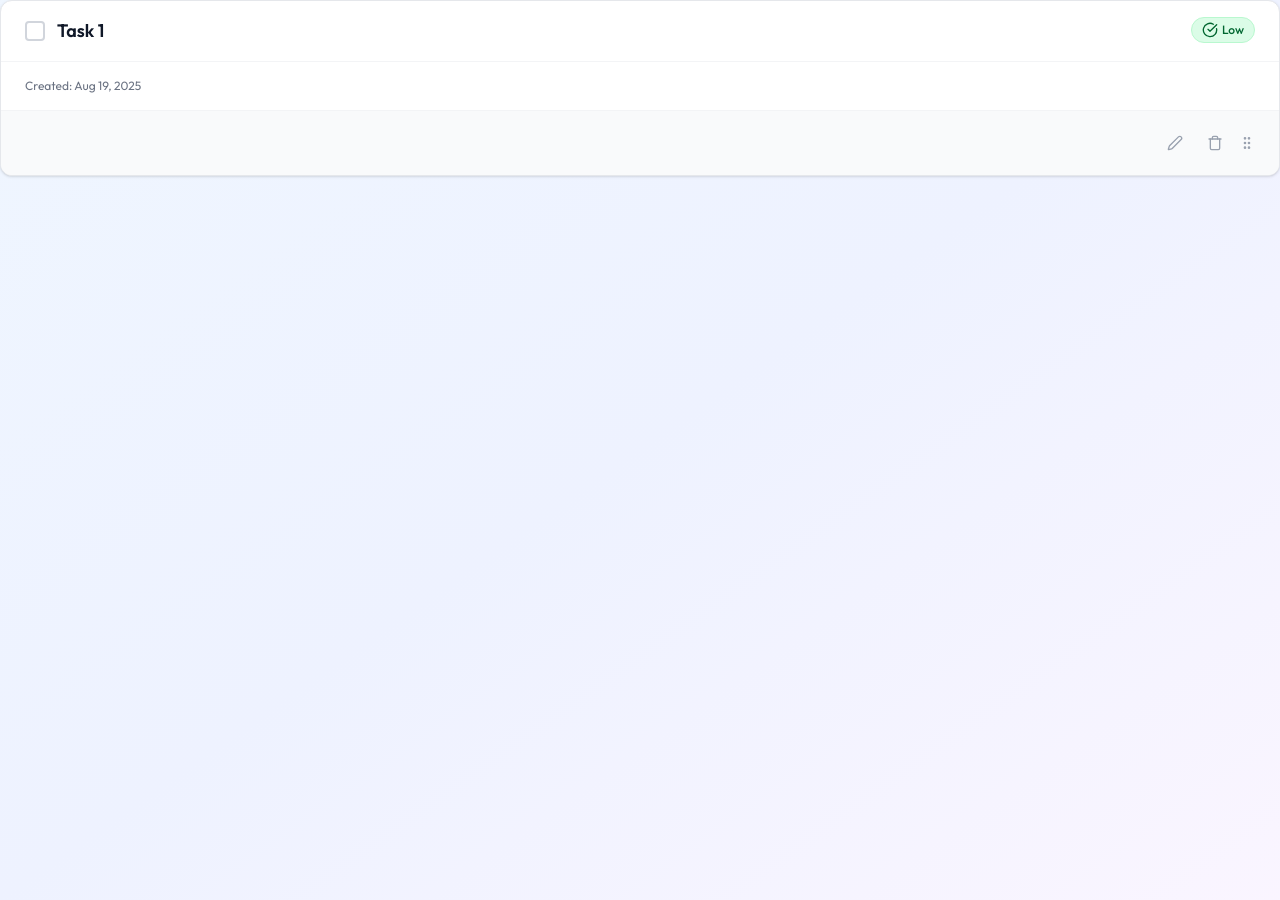
it: TaskListItem › should update and reflect the task detail changes
Click the button named "Edit task".
click(1175, 143)  # box top-left (1159, 127), bottom-right (1191, 159)
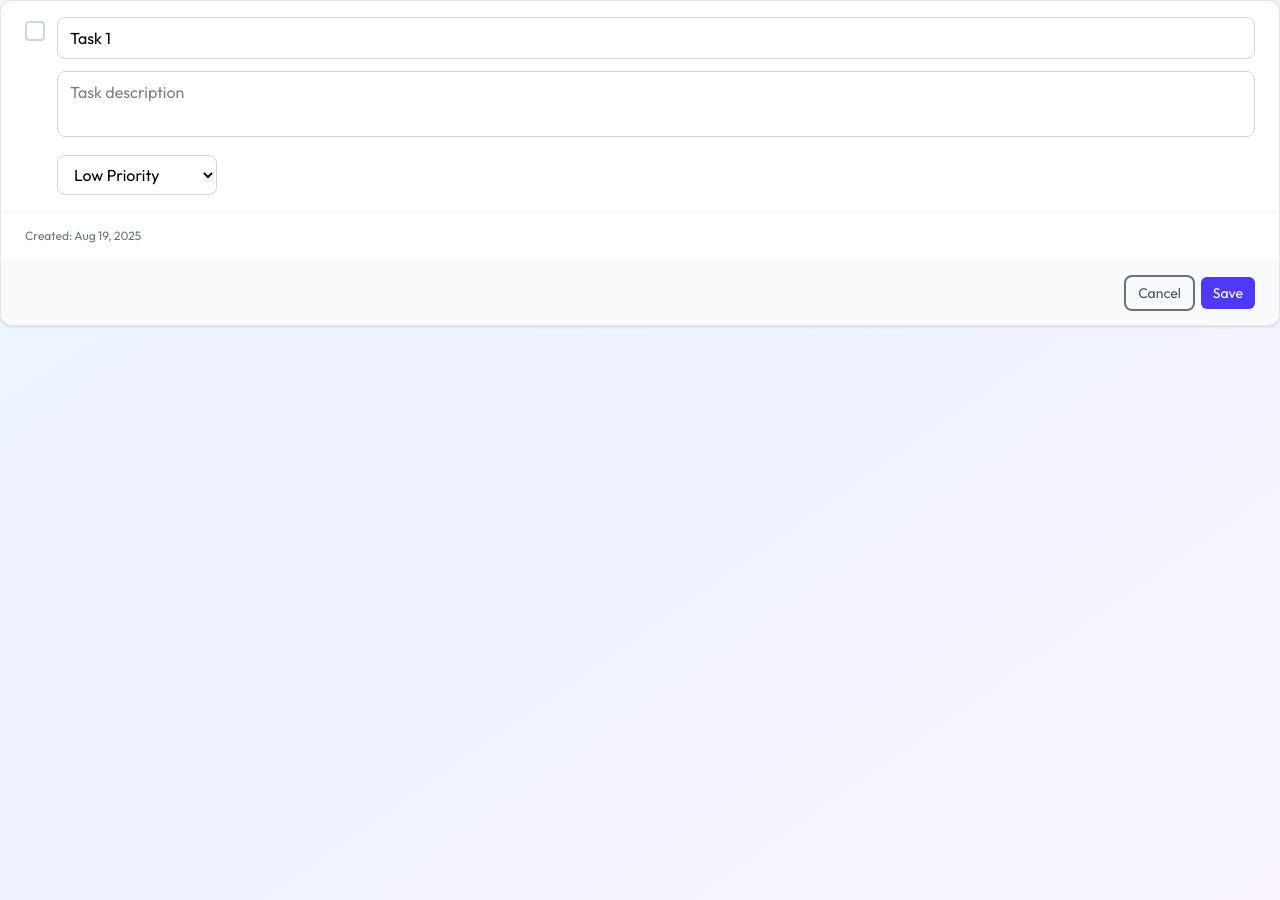
Replace the text in the field named "Edit task title" with "Updated Task Title" at (656, 38), box top-left (57, 17), bottom-right (1255, 59)
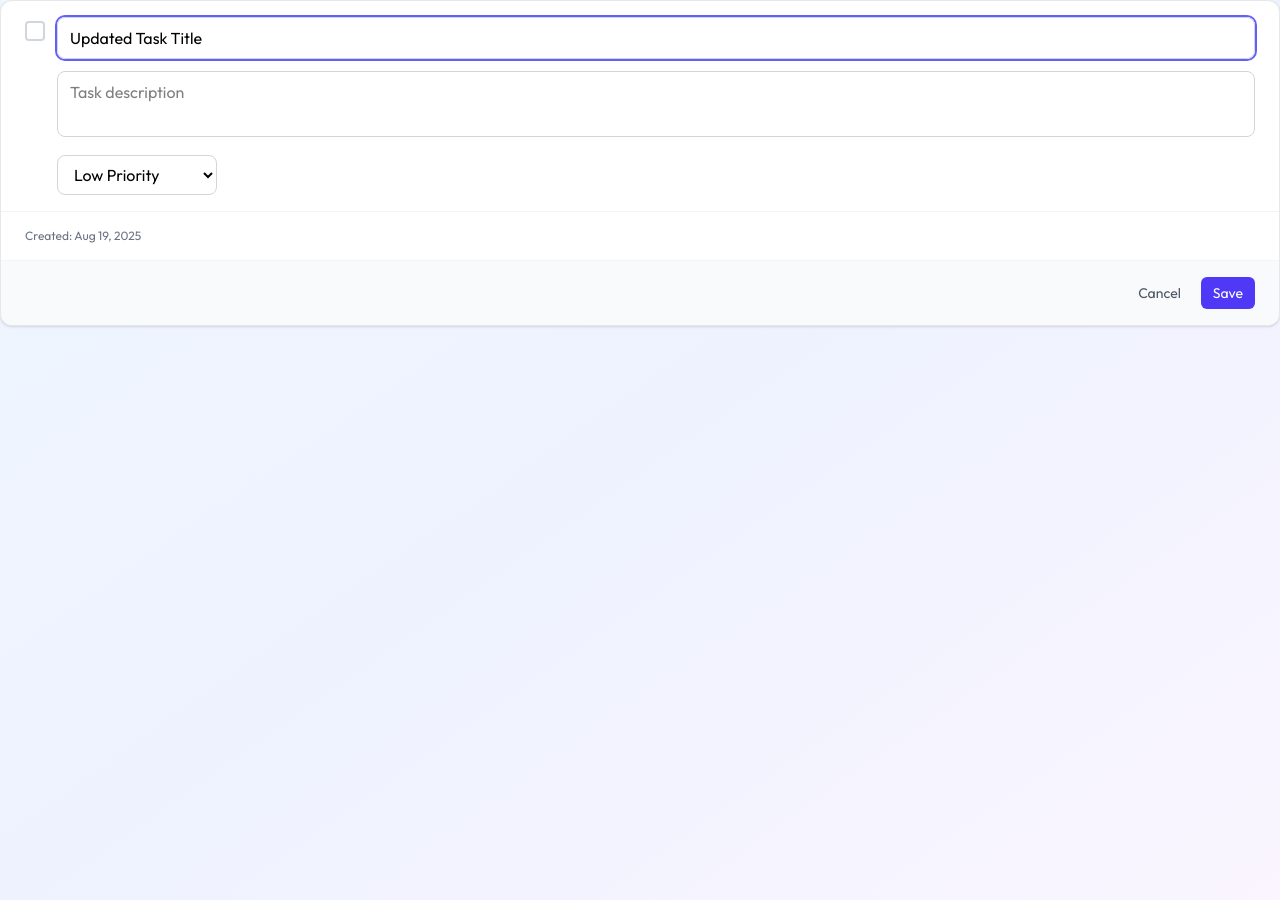
Select "Low Priority" in the dropdown named "Edit task priority" at (137, 175), box top-left (57, 155), bottom-right (217, 195)
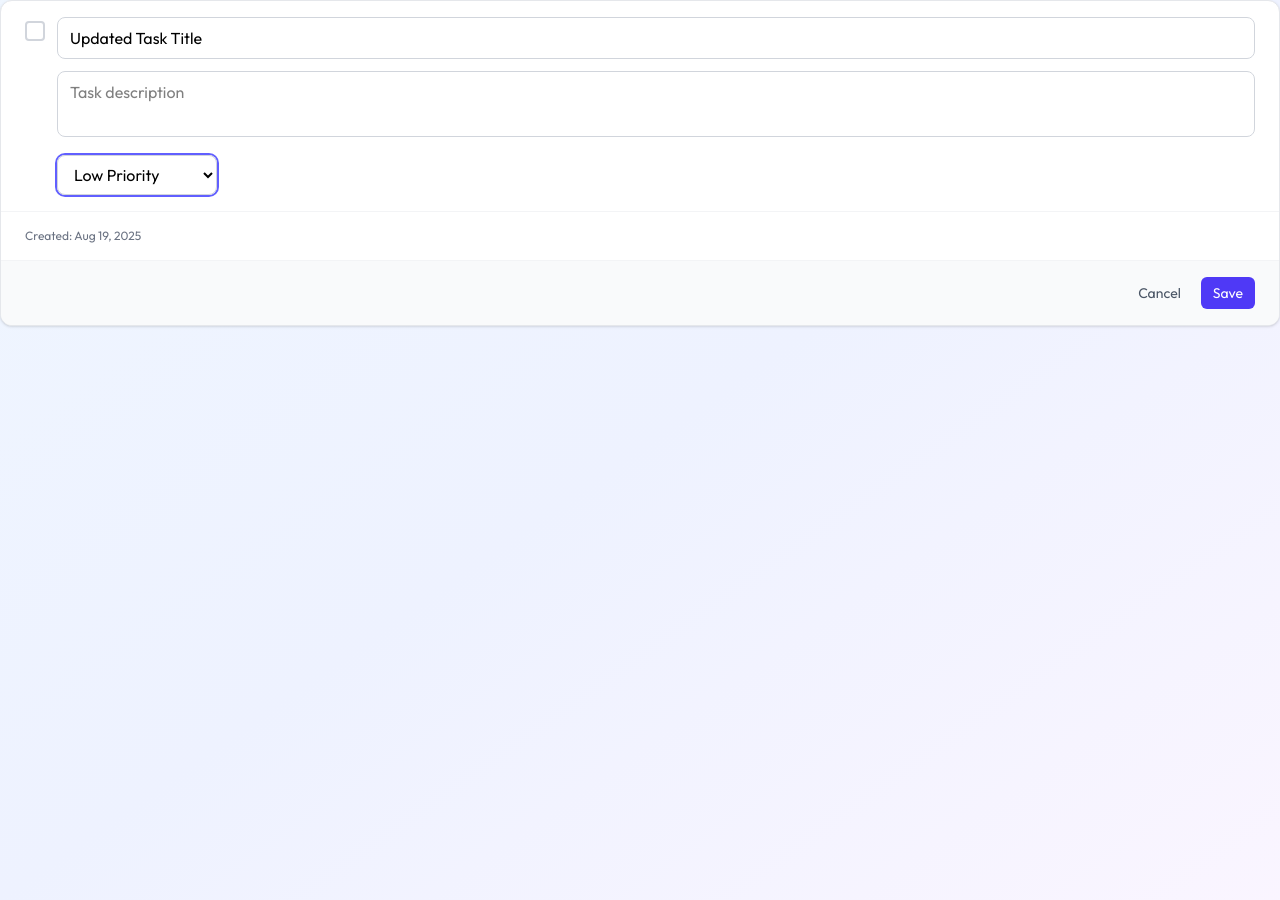
Check: the button with aria-label "Save changes" is shown
Click the button with aria-label "Save changes".
click(1228, 293)  # box top-left (1201, 277), bottom-right (1255, 309)
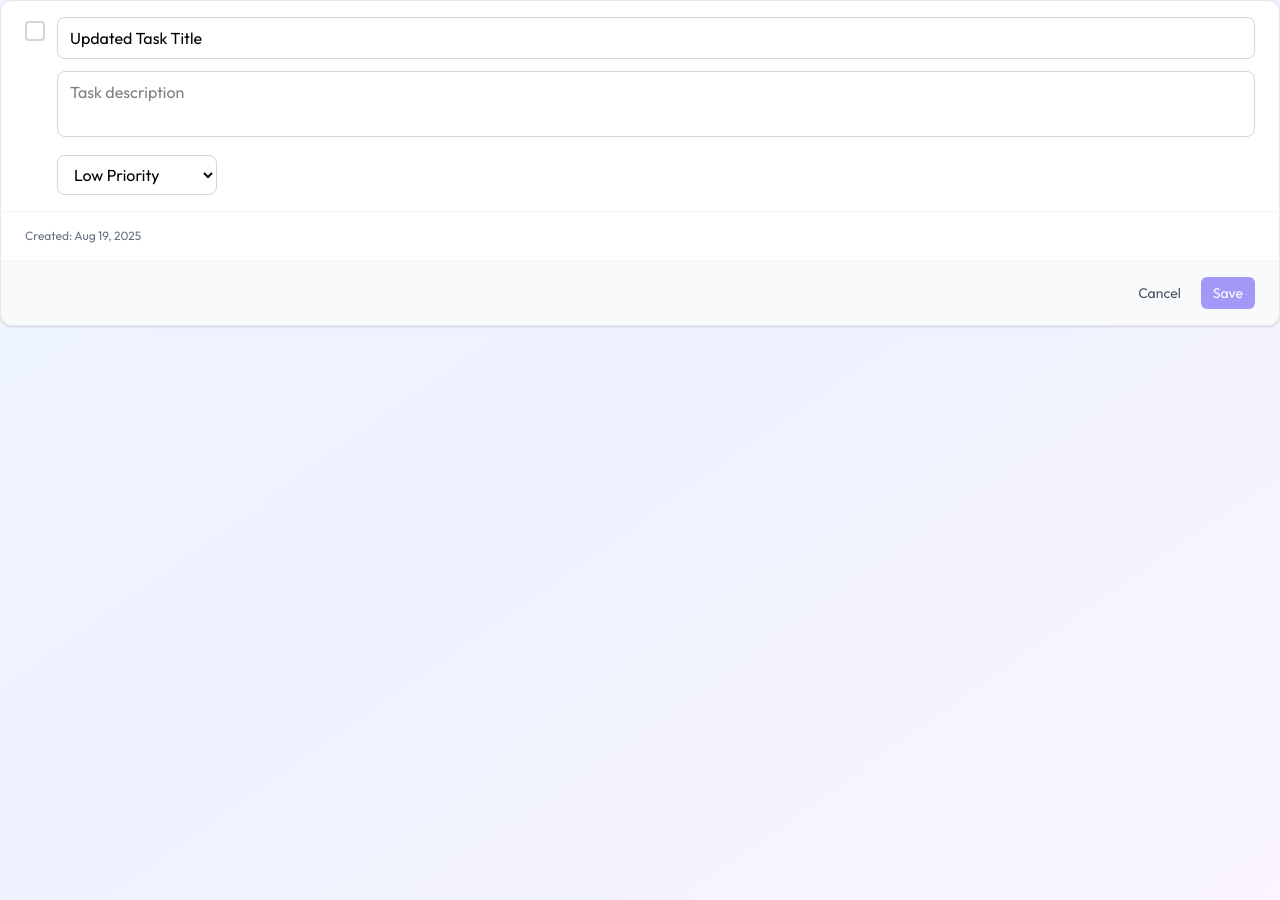
Check: the button with aria-label "Save changes" is disabled, box top-left (1201, 277), bottom-right (1255, 309)
